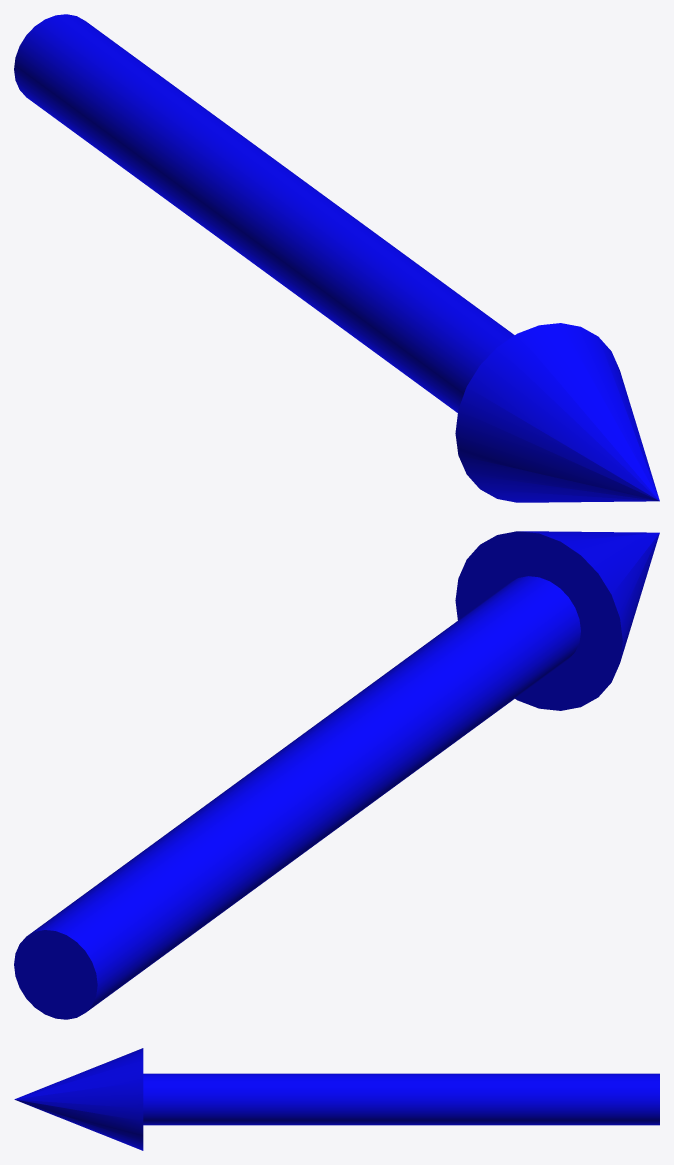
The model's file is ManipulatorArrow.fbx.
The picture shows the model from 3 angles, top to bottom: view 1: azimuth 30°, elevation 25°; view 2: azimuth 150°, elevation 25°; view 3: azimuth 270°, elevation 25°; orthographic projection. The views are drawn at different scales.
Parts seen in each view (by area): view 1: Cylinder.002; view 2: Cylinder.002; view 3: Cylinder.002.
Part boxes in pixels (<box>): Cylinder.002: <box>14,14,659,502</box>; Cylinder.002: <box>14,531,659,1019</box>; Cylinder.002: <box>14,1048,659,1150</box>.
Size of the model in its own units: 0.2 by 0.2 by 1.25.
